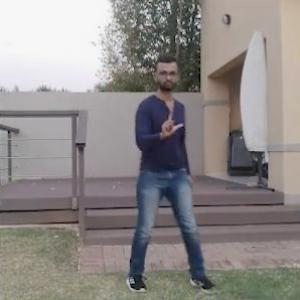land_hand: (152, 103, 184, 143)
